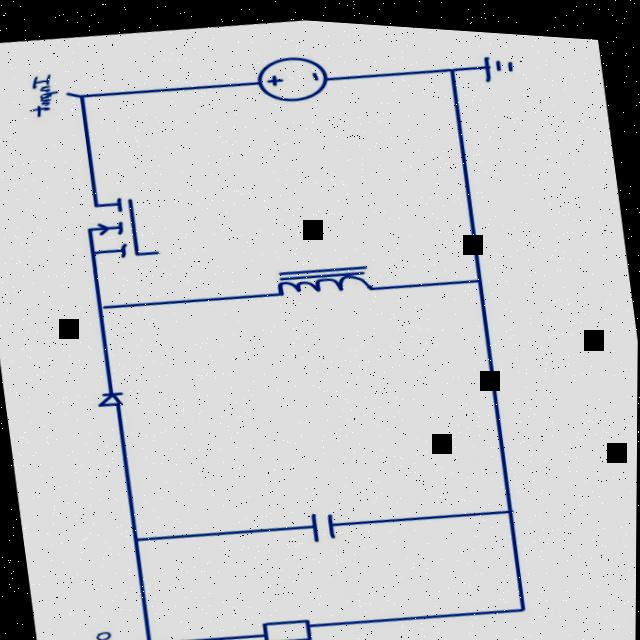capacitor: (285, 493, 361, 550)
diode: (90, 370, 146, 427)
ground: (470, 35, 533, 89)
inductor: (262, 240, 394, 318)
mosfet: (58, 167, 172, 273)
resistor: (248, 599, 337, 640)
source: (243, 40, 340, 109)
